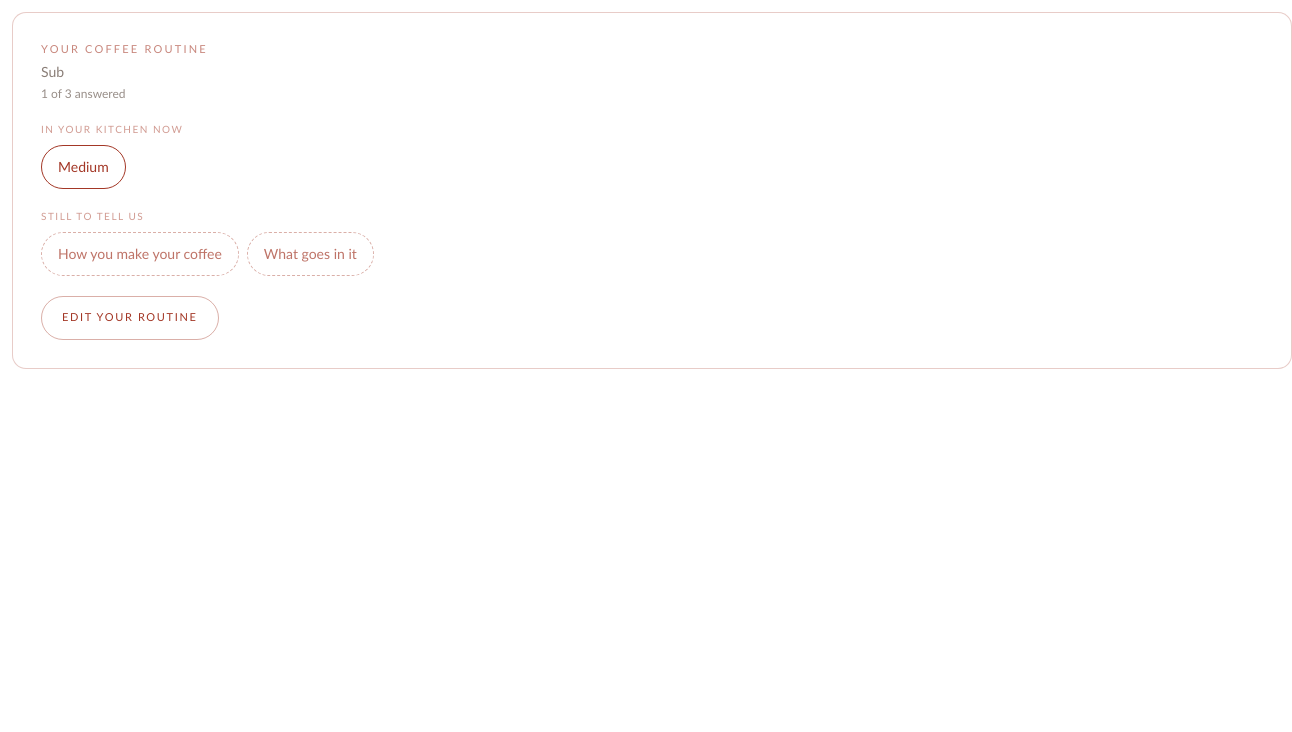
the routine card (D3) › a failed save shows routine_save_error, never the server's message
Click the button with test id "routine-edit".
click(130, 318)  # box [41,296,218,340]
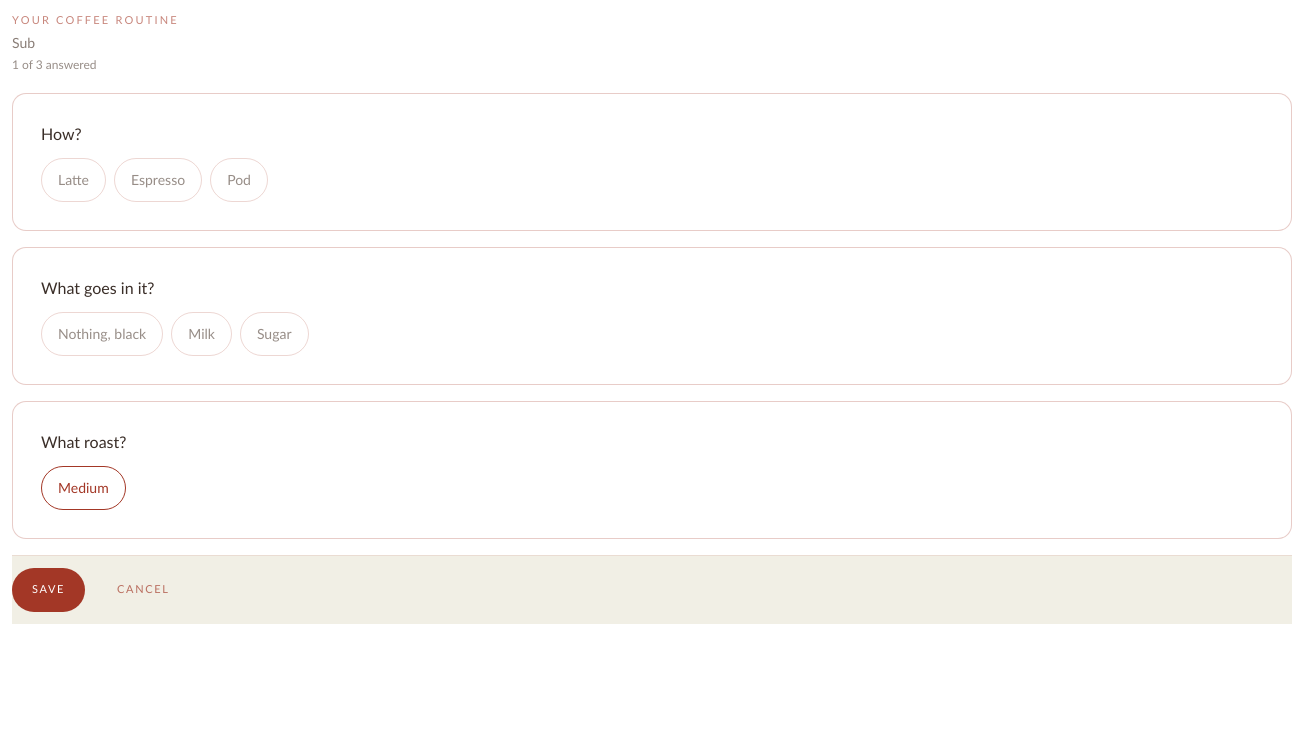
Click the button with test id "brew-field-takes_it-option-milk".
click(202, 334)  # box [171,312,232,356]
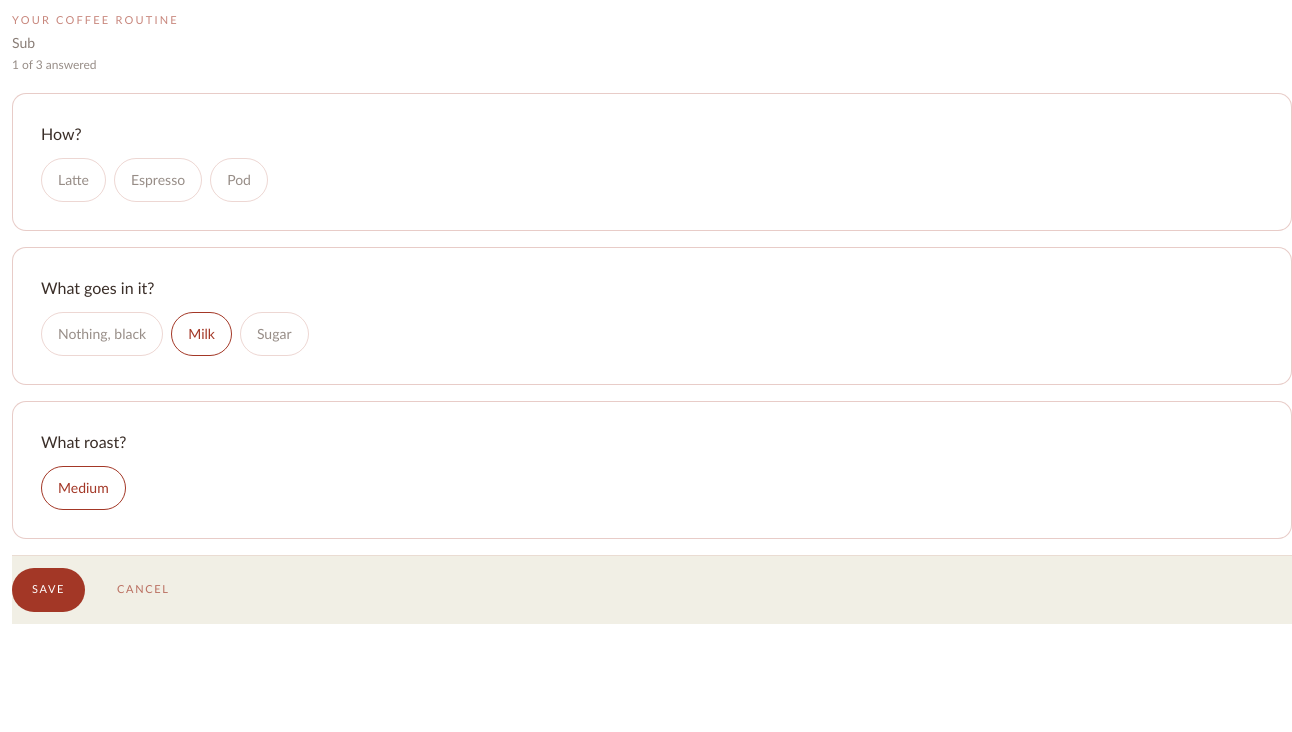
Click the button with test id "routine-save".
click(49, 590)  # box [12,568,85,612]
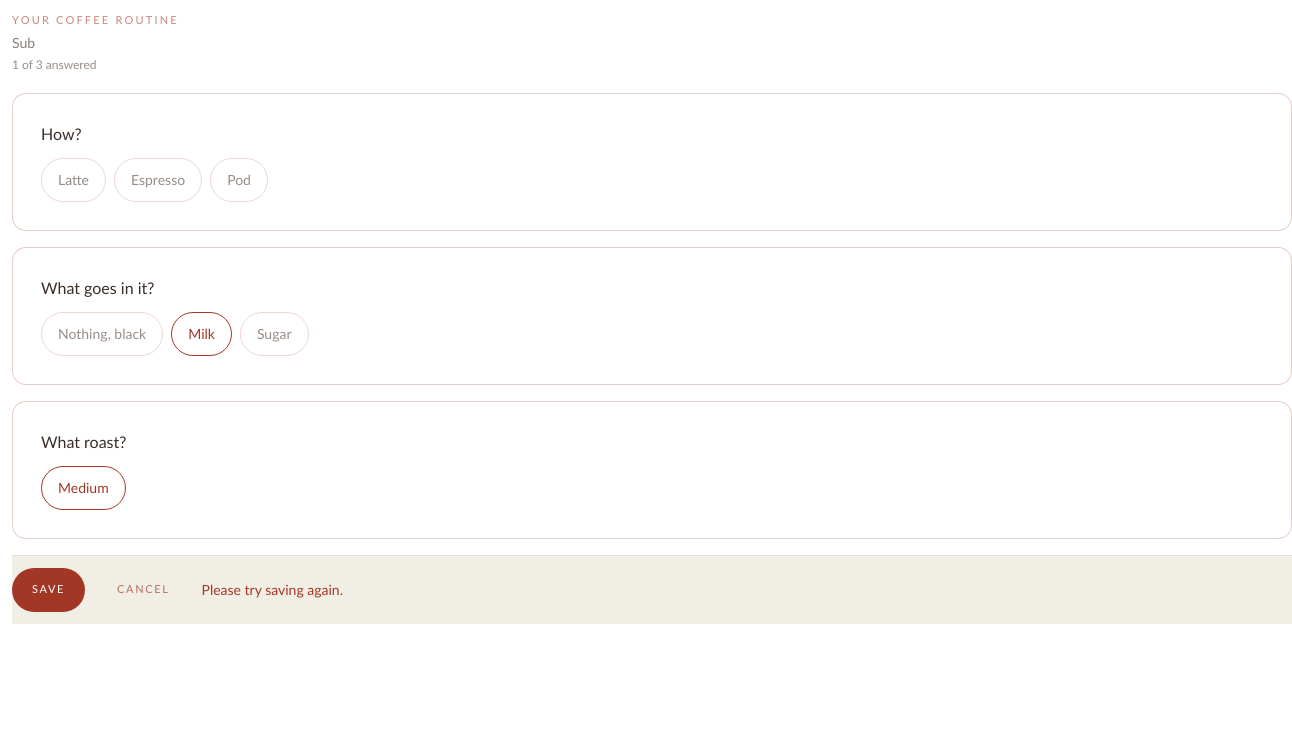
Now the message with test id "routine-save-error" reads "Please try saving again.", box [202,580,343,598]
